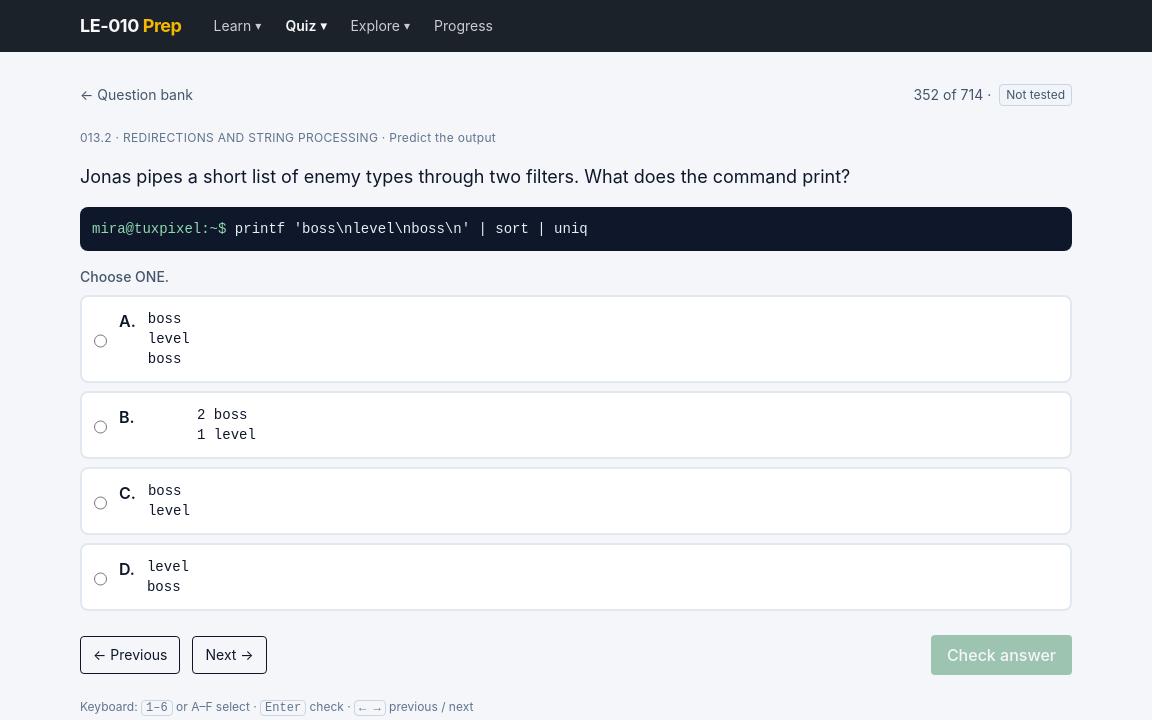
pages › shows the command of an output item and grades the picked output
Expected: the text "mira@tuxpixel:~$ printf 'boss\\nlevel\\nboss\\n' | sort | uniq" is shown, [92,221,588,237]
Click the radio button labelled "A. boss level boss" at (100, 341), box [94,313,107,369]
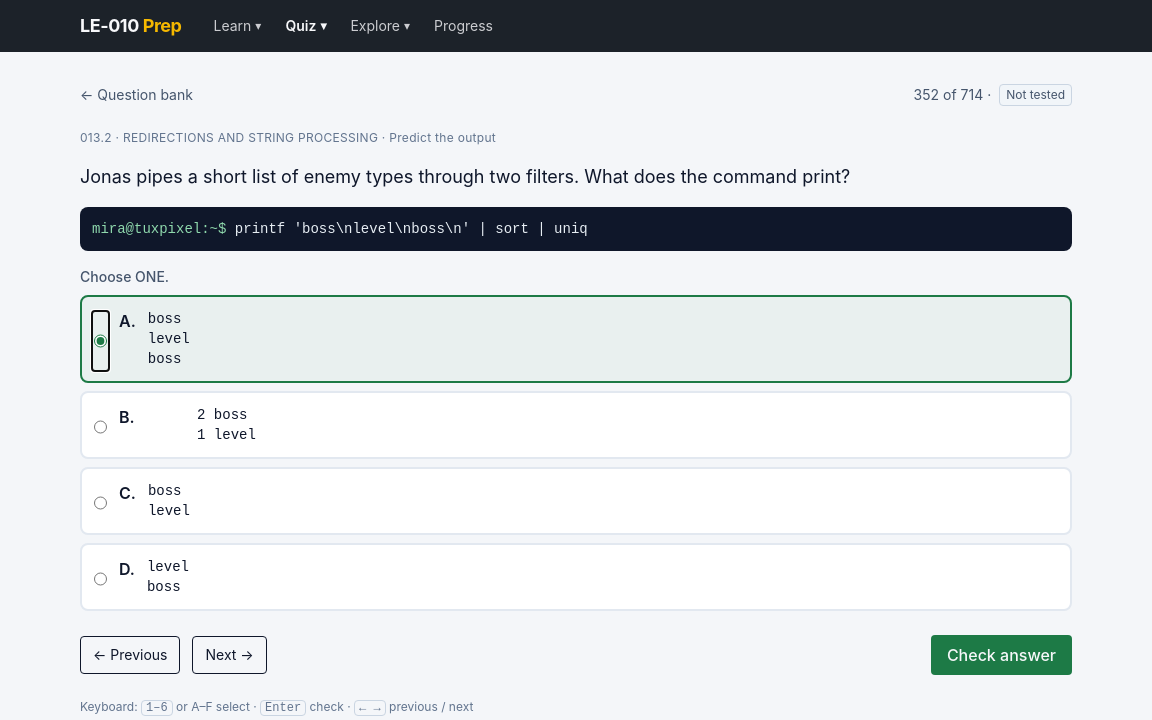
Click the button "Check answer" at (1001, 655), box [931,635,1072,675]
(page scrolled)
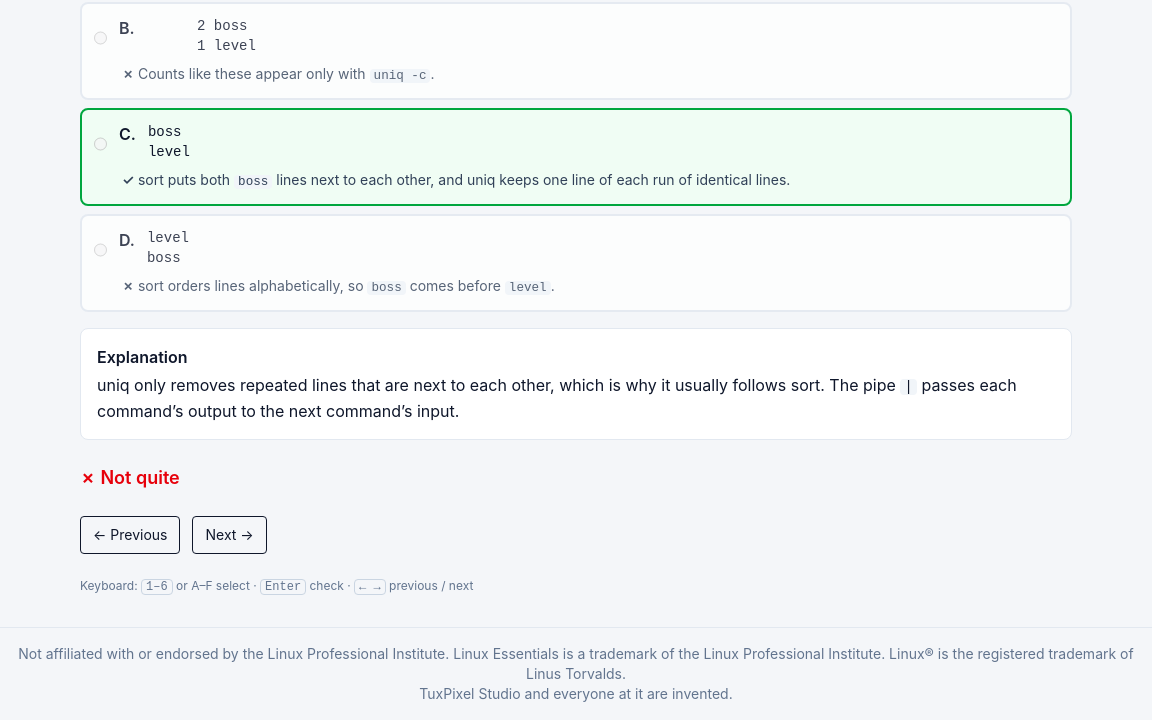
Result: the message shows "Not quite" at [80,467,180,488]
